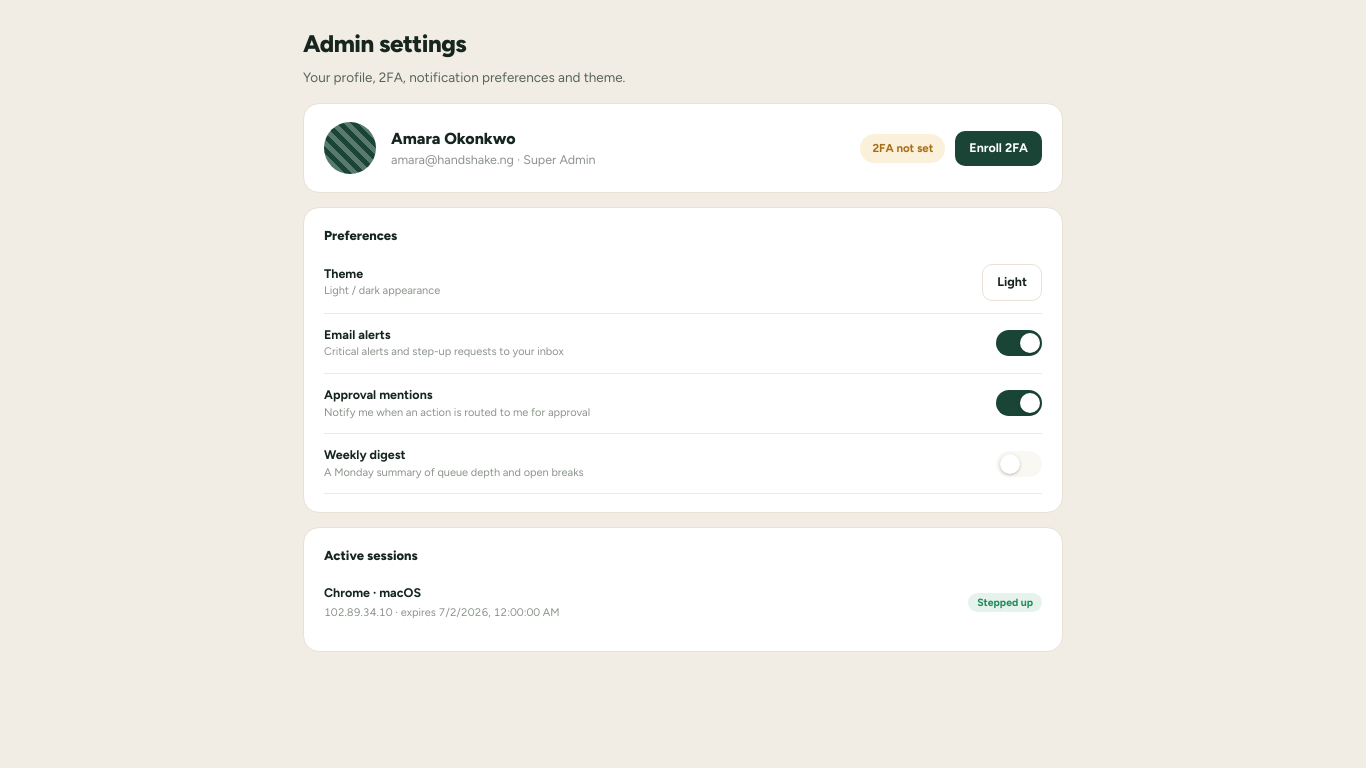
Test: AdminSettingsPage (real-data wiring) › shows a 2FA-not-set pill and an Enroll button that opens the MFA dialog
Expected: the text "2FA not set" is shown, [860,134,945,163]
Click the button "Enroll 2FA": x=999, y=148 [955,131,1042,166]
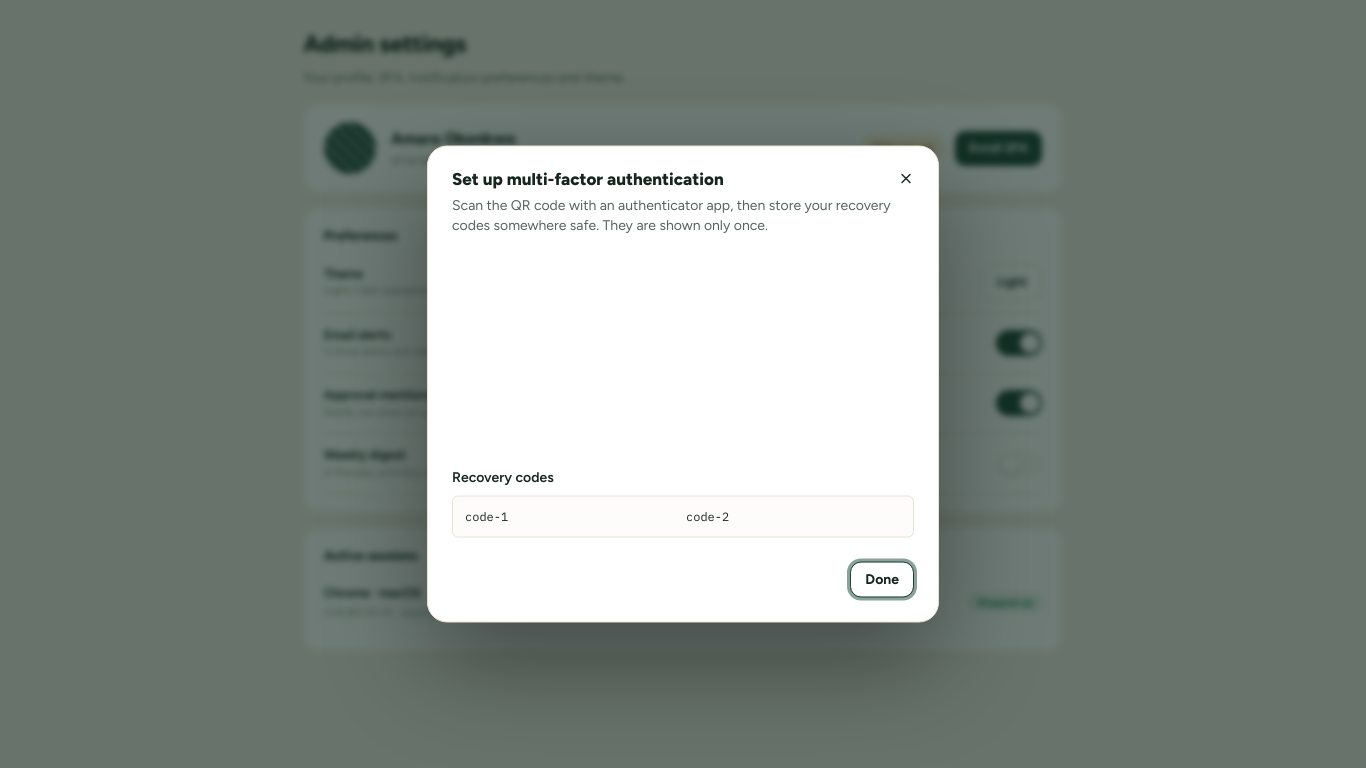
Expected: the heading "Set up multi-factor authentication" is shown, [452,168,724,188]
